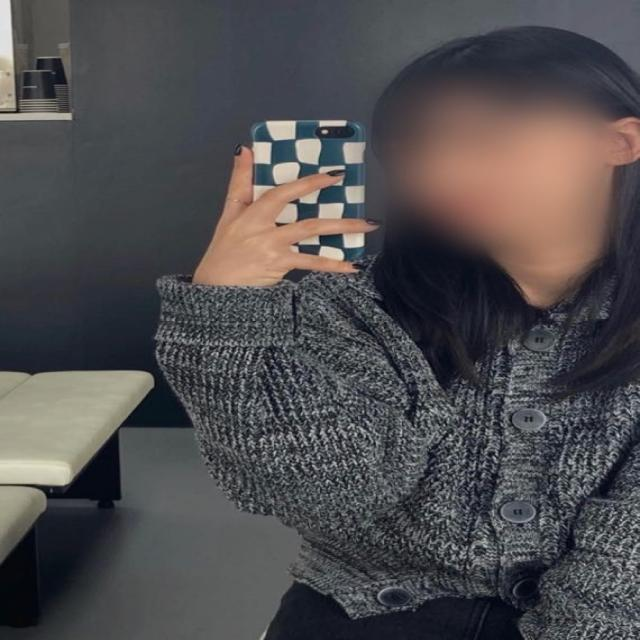cardigan: (143, 247, 640, 640)
